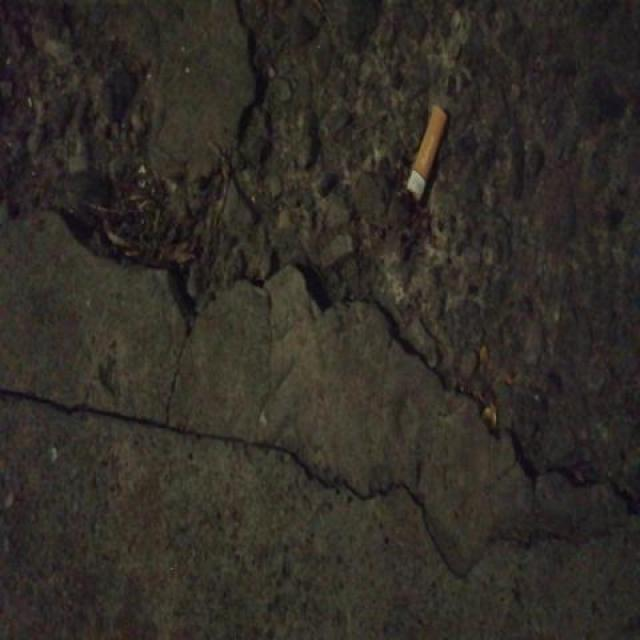non-organic waste: (404, 100, 452, 207)
